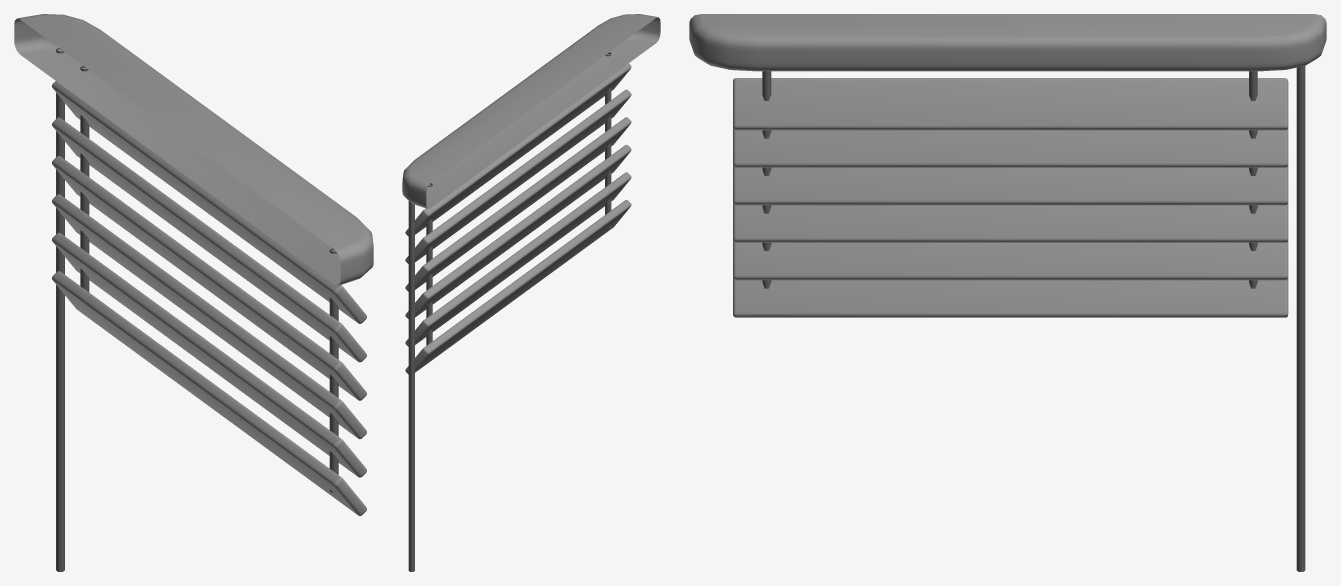
File: Blinds.FBX
3 renders of one model, left to right at view 1: azimuth 30°, elevation 25°; view 2: azimuth 150°, elevation 25°; view 3: azimuth 270°, elevation 25°, orthographic. The views are drawn at different scales.
Visible parts, largest first — view 1: Blinds; view 2: Blinds; view 3: Blinds.
Boxes of the visible parts, x1=… form: Blinds: x1=14, y1=14, x2=373, y2=571; Blinds: x1=402, y1=14, x2=660, y2=571; Blinds: x1=689, y1=14, x2=1326, y2=571.
Bounding box in the file's own units: 2.9 × 27.79 × 29.7.
